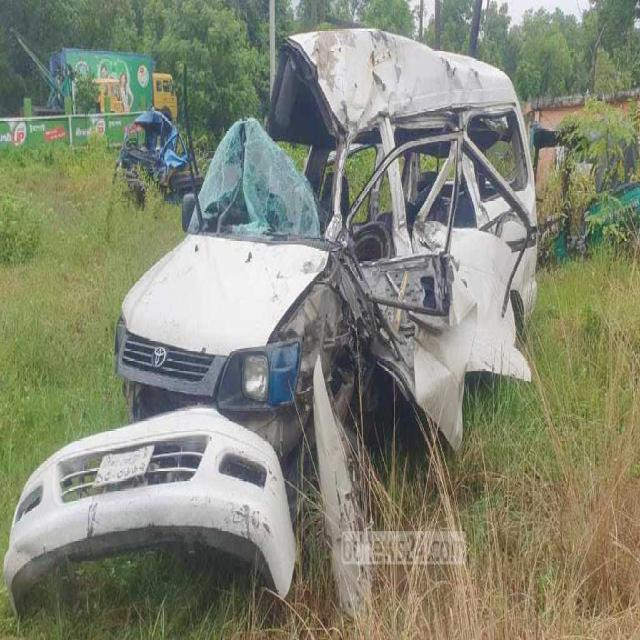Accident: (0, 23, 541, 639)
